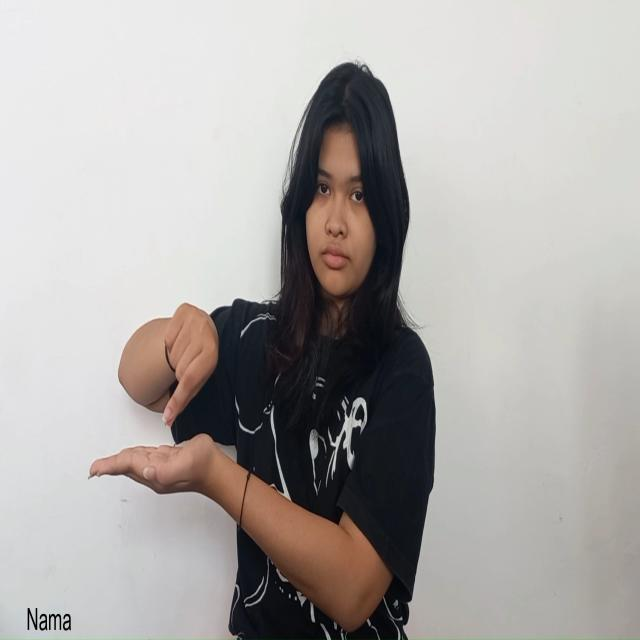Nama -BISINDO-: (87, 301, 220, 502)
